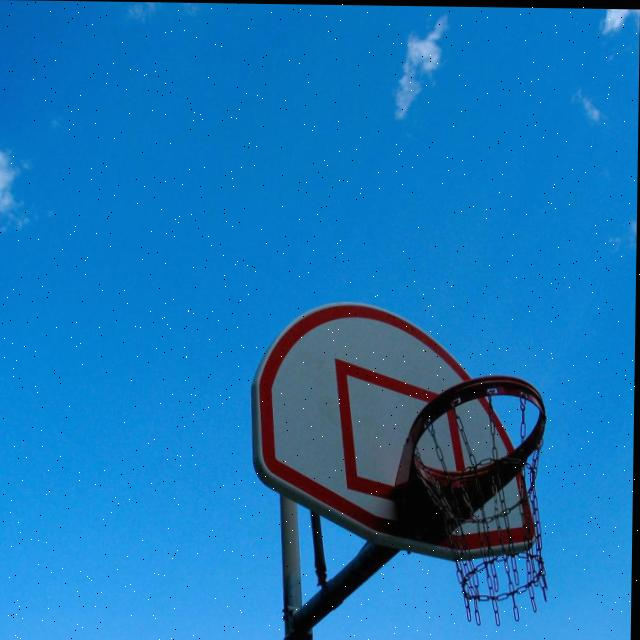hoop: (409, 374, 552, 627)
